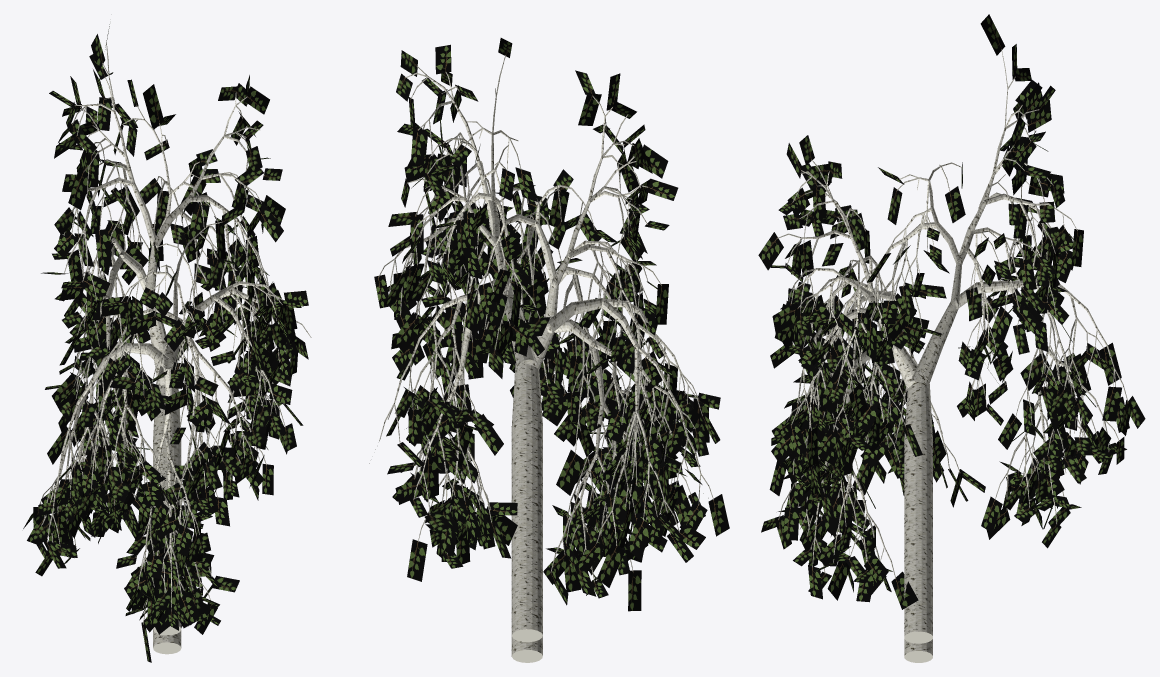
Rendered from tree_birch_2.glb.
The picture shows the model from 3 angles, left to right: view 1: azimuth 30°, elevation 25°; view 2: azimuth 150°, elevation 25°; view 3: azimuth 270°, elevation 25°; orthographic projection. The views are drawn at different scales.
Parts seen in each view (by area): view 1: Trunk, Trunk#2, Branch#107, Trunk.Stump, Leaf#321, Leaf#374, Leaf#292, Leaf#394, Leaf#234, Branch#161; view 2: Trunk, Trunk#2, Trunk#5, Leaf#848, Trunk.Stump, Leaf#550, Leaf#568, Leaf#19, Leaf#284, Leaf#418, Leaf#582, Trunk#7 (+1 smaller); view 3: Trunk, Trunk#2, Trunk.Stump.
Boxes of the visible parts, left/top/right/bottom form: Trunk: left=153, top=359, right=181, bottom=635; Trunk#2: left=145, top=245, right=168, bottom=386; Branch#107: left=153, top=195, right=223, bottom=246; Trunk.Stump: left=153, top=629, right=181, bottom=654; Leaf#321: left=68, top=168, right=91, bottom=209; Leaf#374: left=143, top=84, right=163, bottom=129; Leaf#292: left=94, top=229, right=112, bottom=267; Leaf#394: left=188, top=203, right=209, bottom=239; Leaf#234: left=256, top=204, right=283, bottom=242; Branch#161: left=123, top=164, right=157, bottom=247; Trunk: left=511, top=326, right=554, bottom=642; Trunk#2: left=494, top=243, right=536, bottom=369; Trunk#5: left=549, top=298, right=603, bottom=332; Leaf#848: left=556, top=450, right=584, bottom=495; Trunk.Stump: left=511, top=636, right=542, bottom=662; Leaf#550: left=597, top=541, right=625, bottom=587; Leaf#568: left=626, top=516, right=652, bottom=559; Leaf#19: left=407, top=539, right=427, bottom=581; Leaf#284: left=443, top=307, right=462, bottom=348; Leaf#418: left=628, top=570, right=641, bottom=611; Leaf#582: left=708, top=494, right=729, bottom=536; Trunk#7: left=535, top=206, right=558, bottom=285; Trunk: left=893, top=346, right=932, bottom=643; Trunk#2: left=910, top=261, right=961, bottom=389; Trunk.Stump: left=904, top=639, right=932, bottom=662.
Bounding box in the file's own units: 7.88 × 16.31 × 9.05.
3 materials, 3 textured.
